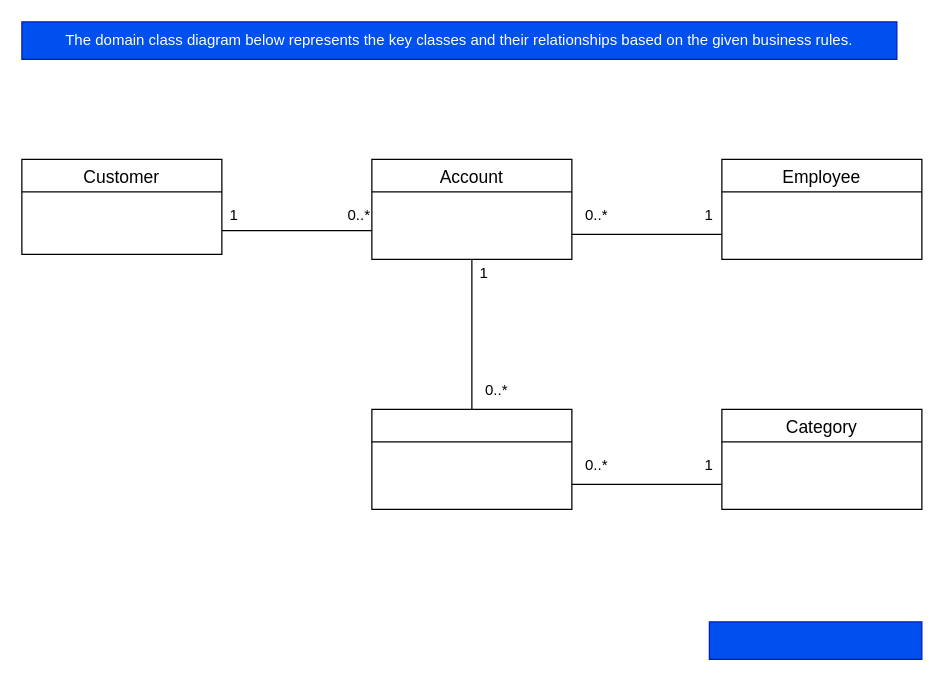
Some shapes in this 944 by 681 pixel diagram are drawn without their labels. The centre of each missing label's shape, as x and y in pixels:
"Done By ST10467645" belongs at [815,640].
"Product" belongs at [471,458].
